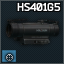Holosun HS401G5 reflex sight: (0, 0, 64, 64)
